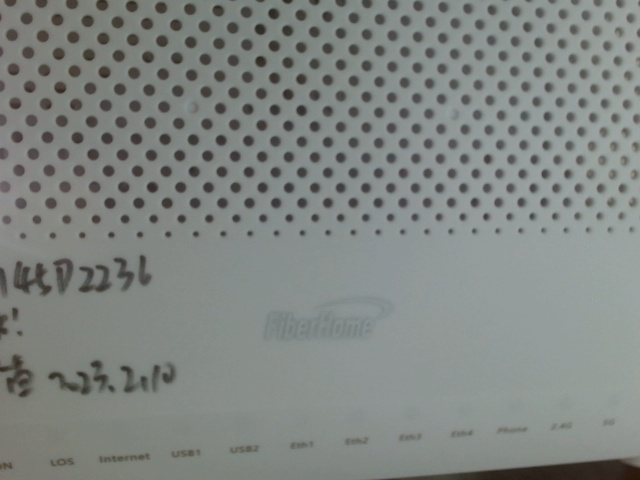AI_FiberHome: (250, 288, 402, 347)
